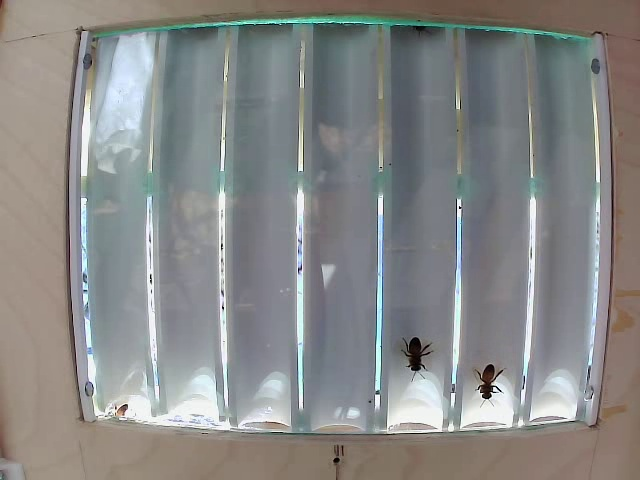bee: (388, 319, 441, 377), (460, 356, 492, 403)
